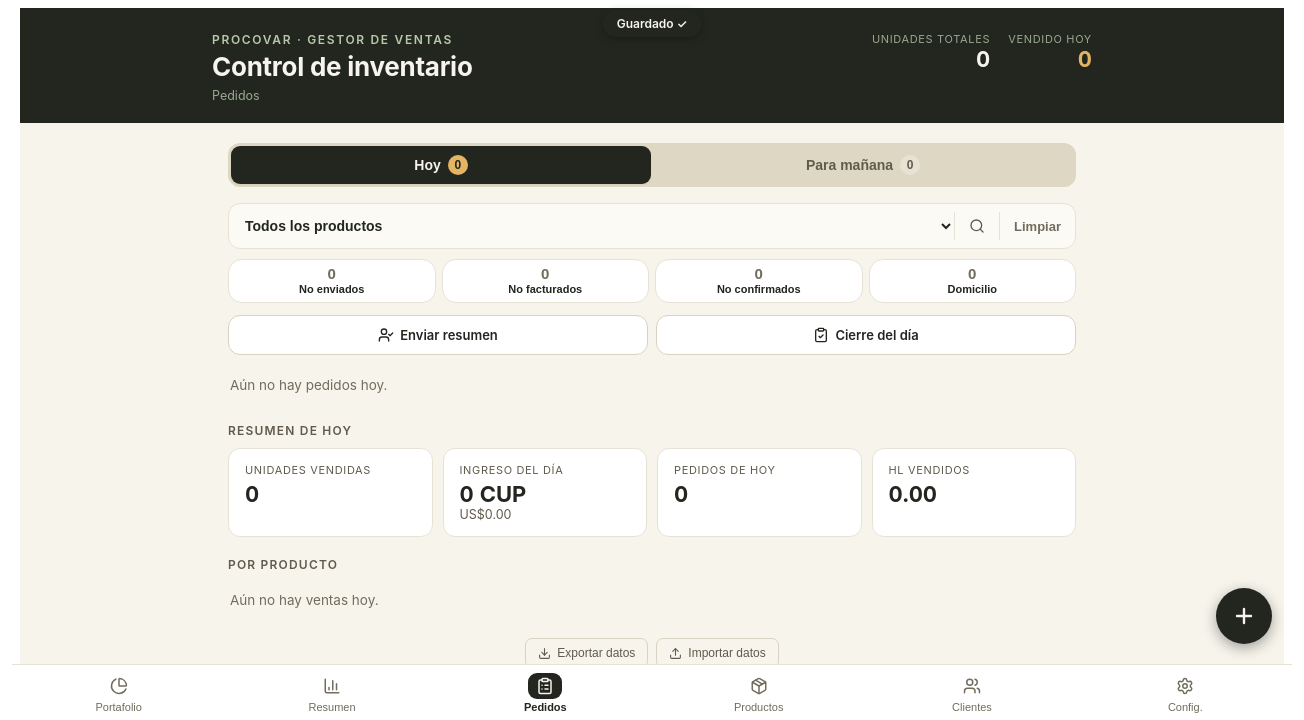
Test: Pedidos: enviar resumen al supervisor › sin pedidos hoy avisa y no abre WhatsApp
The width and height of the screenshot is (1304, 720).
Click the button with aria-label "Enviar resumen al supervisor". click: coordinates (438, 335)
box: [228,315,648,355]
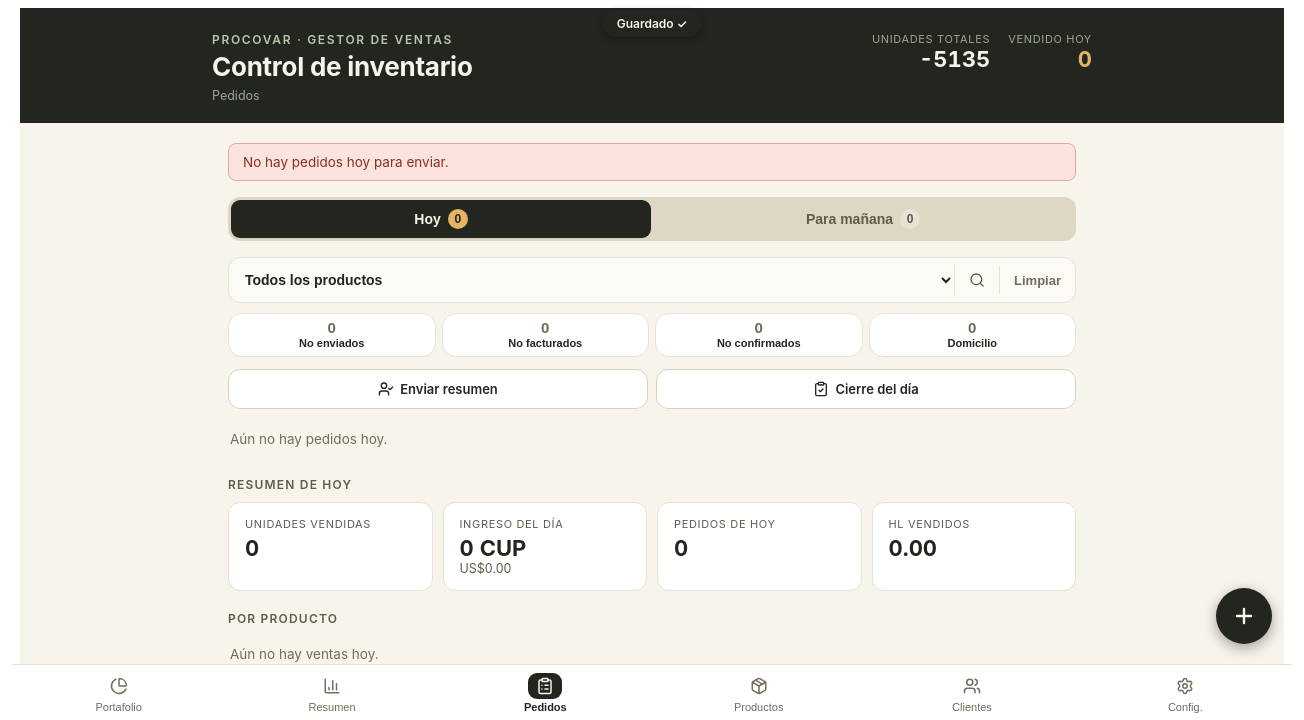
Expected: the text "No hay pedidos hoy para enviar." is shown, [243,154,449,170]
